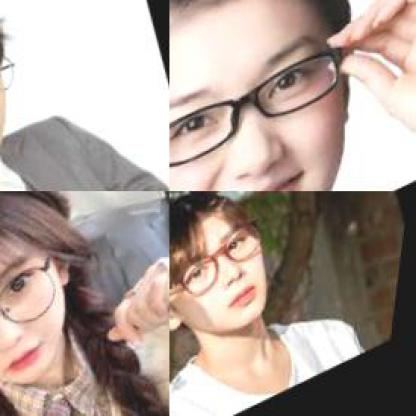Glasses: (170, 37, 372, 189), (0, 245, 90, 402), (169, 214, 278, 320), (0, 50, 26, 125)
